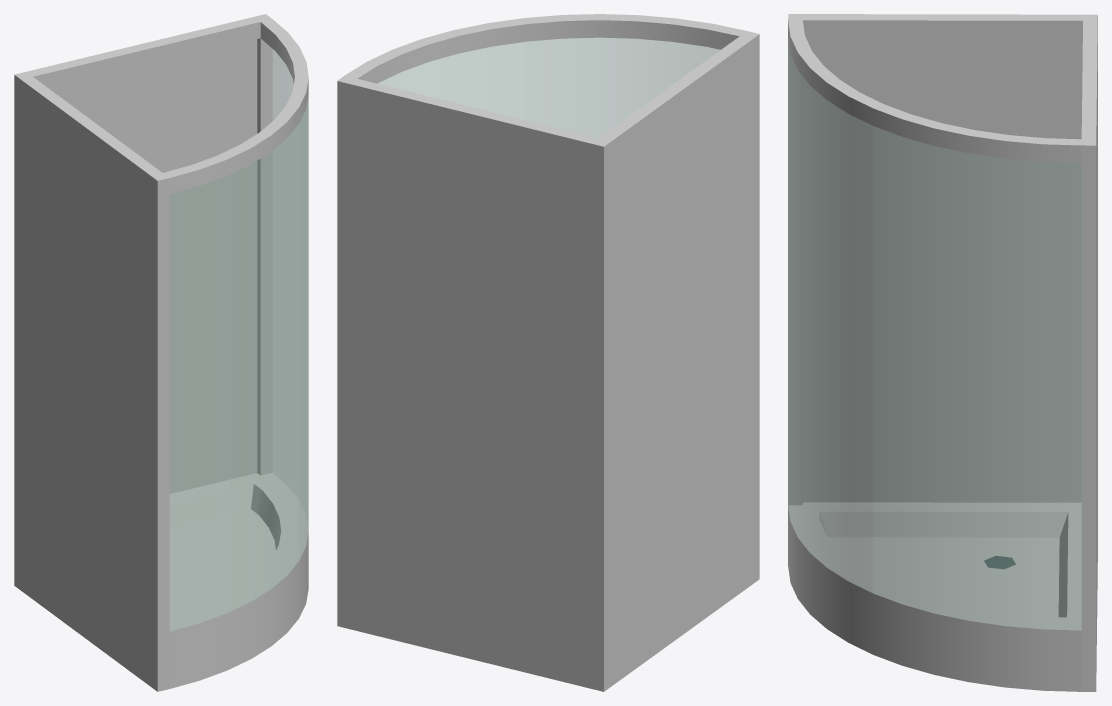
File: showerRound.glb
The picture shows the model from 3 angles, left to right: view 1: azimuth 30°, elevation 25°; view 2: azimuth 150°, elevation 25°; view 3: azimuth 270°, elevation 25°; orthographic projection. The views are drawn at different scales.
Parts seen in each view (by area): view 1: showerRound; view 2: showerRound; view 3: showerRound.
Boxes of the visible parts, x1,y1,x2,y2 form: showerRound: [14, 14, 308, 691]; showerRound: [337, 14, 759, 691]; showerRound: [788, 14, 1097, 691].
Size of the model in its own units: 0.9868 by 1.91 by 0.982.
